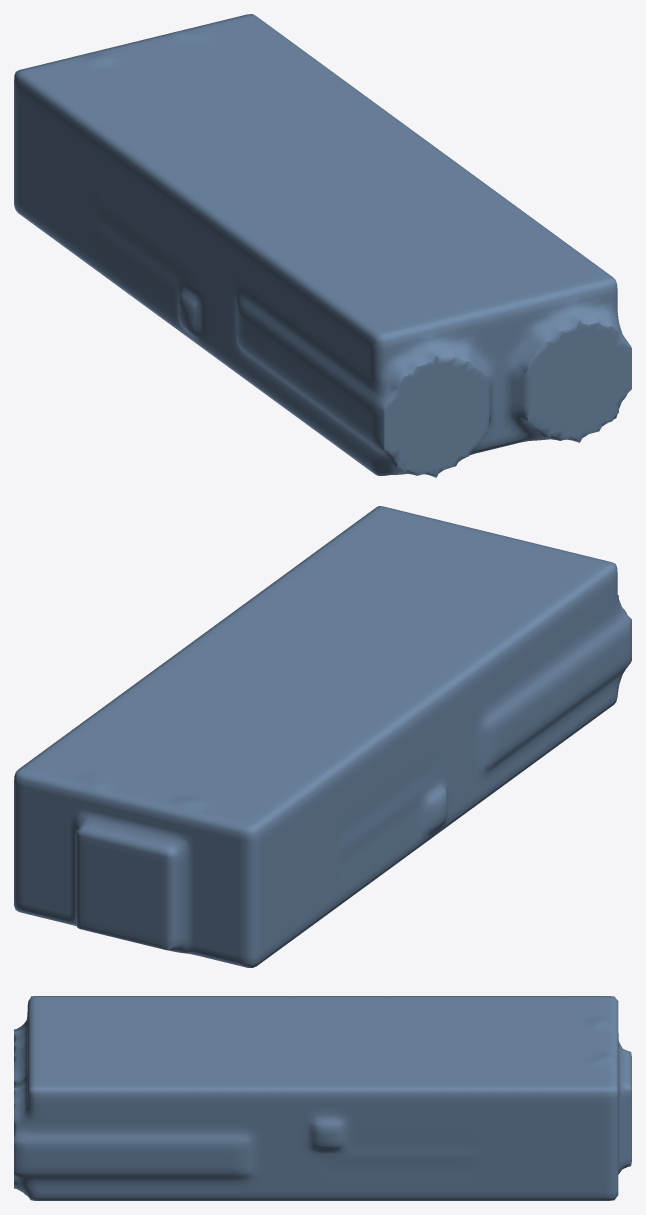
File: staff-safety-idle.glb
3 views of the same model, one above another, from view 1: azimuth 30°, elevation 25°; view 2: azimuth 150°, elevation 25°; view 3: azimuth 270°, elevation 25° (orthographic). The views are drawn at different scales.
Visible parts, largest first — view 1: Leg_-1; view 2: Leg_-1; view 3: Leg_-1.
Boxes of the visible parts, x1,y1,x2,y2 form: Leg_-1: [14, 14, 631, 477]; Leg_-1: [14, 506, 631, 967]; Leg_-1: [14, 996, 631, 1200].
Size of the model in its own units: 0.4759 by 0.26 by 1.23.
